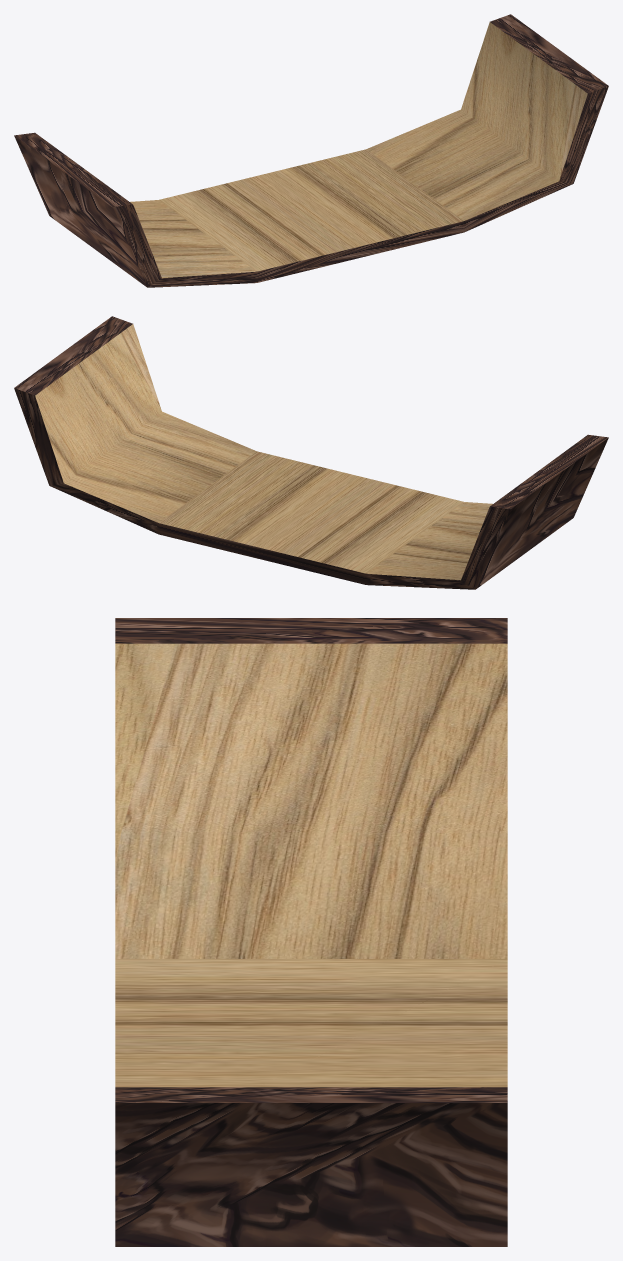
File: OniscideaPlatformV2.fbx
The picture shows the model from 3 angles, top to bottom: view 1: azimuth 30°, elevation 25°; view 2: azimuth 150°, elevation 25°; view 3: azimuth 270°, elevation 25°; orthographic projection. The views are drawn at different scales.
Visible parts, largest first — view 1: pCube1; view 2: pCube1; view 3: pCube1.
Part boxes in pixels (box(x1,y1,x2,y2)): pCube1: box(14, 14, 608, 287); pCube1: box(14, 316, 608, 589); pCube1: box(115, 618, 507, 1246).
Bounding box in the file's own units: 30.37 × 6.49 × 10.39.
